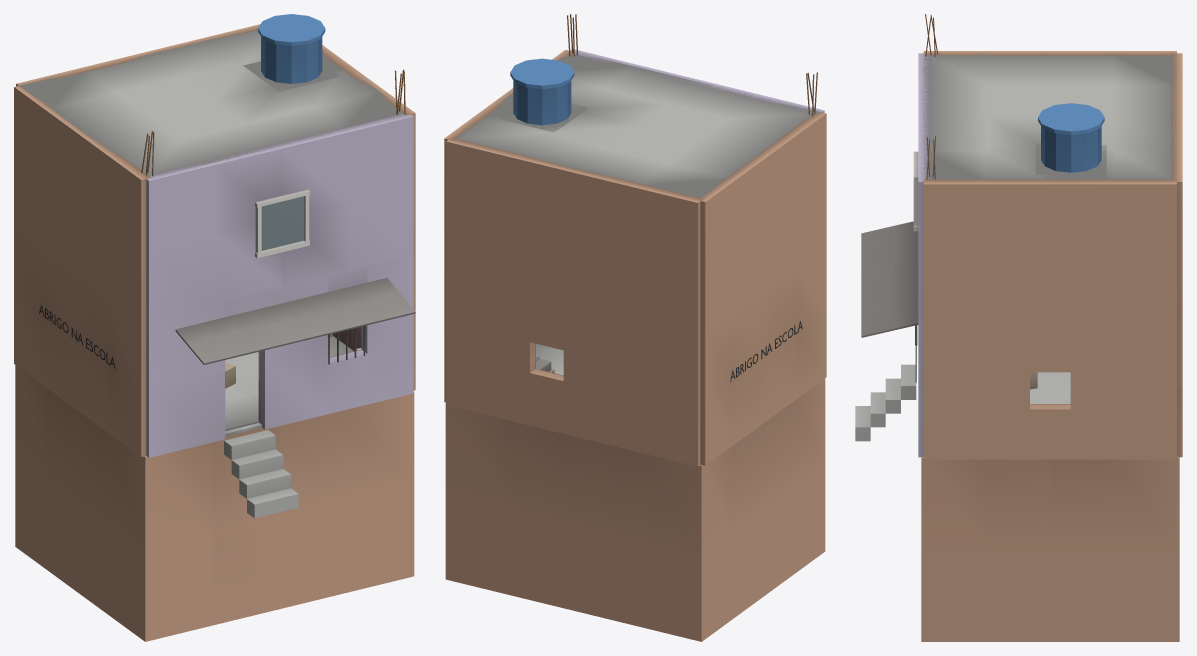
Rendered from barraco_2.glb.
3 views of the same model, side by side, from view 1: azimuth 30°, elevation 25°; view 2: azimuth 150°, elevation 25°; view 3: azimuth 270°, elevation 25° (orthographic). The views are drawn at different scales.
Visible parts, largest first — view 1: longe, ext, detalhe, dentro; view 2: ext, longe, detalhe, dentro; view 3: longe, ext, detalhe, dentro.
Part boxes in pixels (bbox=[...]): longe: bbox=[15, 28, 415, 641]; ext: bbox=[14, 24, 415, 457]; detalhe: bbox=[39, 14, 405, 518]; dentro: bbox=[225, 327, 361, 436]; ext: bbox=[444, 49, 826, 466]; longe: bbox=[445, 54, 825, 641]; detalhe: bbox=[496, 14, 817, 381]; dentro: bbox=[535, 343, 563, 375]; longe: bbox=[861, 53, 1179, 641]; ext: bbox=[918, 51, 1182, 459]; detalhe: bbox=[855, 14, 1106, 441]; dentro: bbox=[1030, 372, 1070, 404].
Size of what is drawn, in the model's own units: 6.23 by 10.93 by 6.46.
